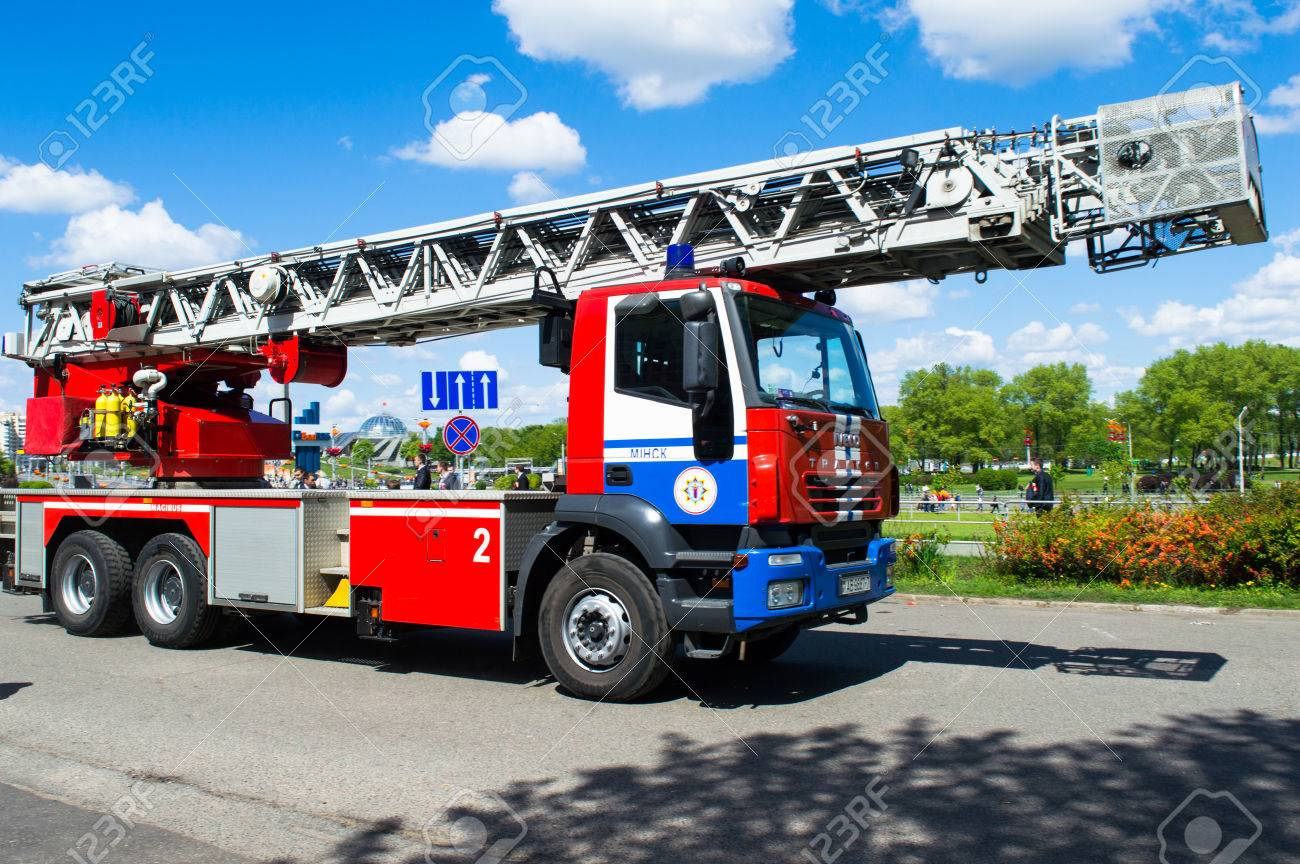special: (27, 83, 1275, 704)
